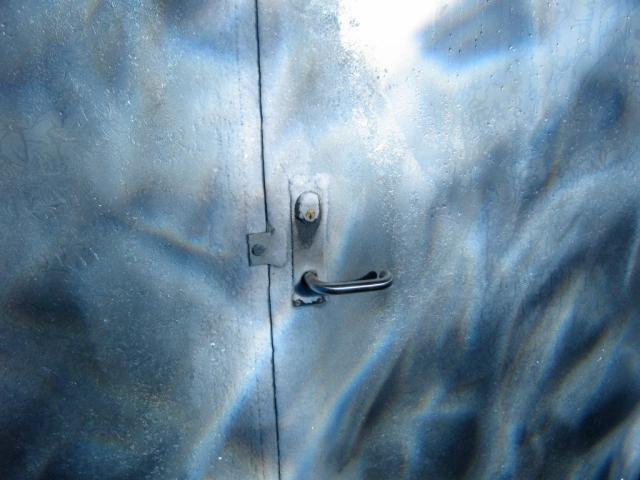Door-handle: (282, 166, 397, 310)
